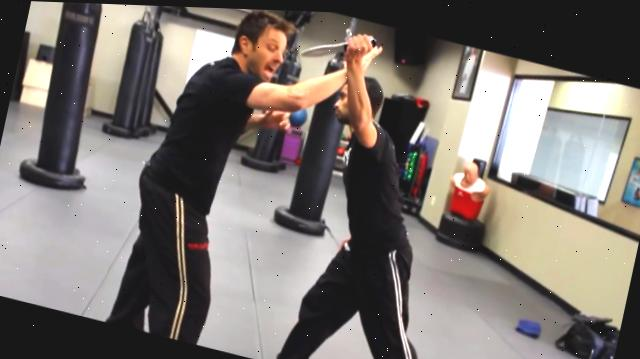pocket-knife: (297, 11, 380, 76)
